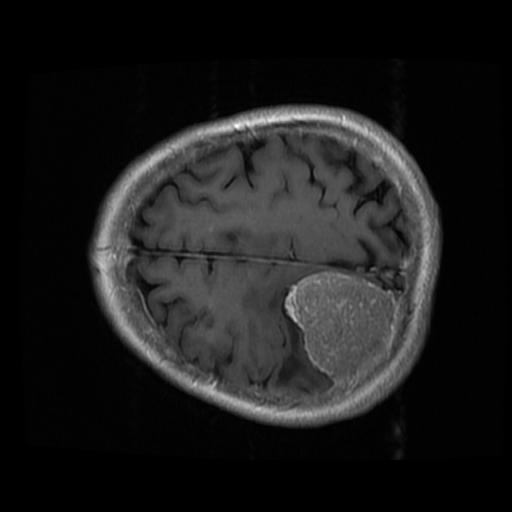meningioma: (285, 272, 399, 394)
